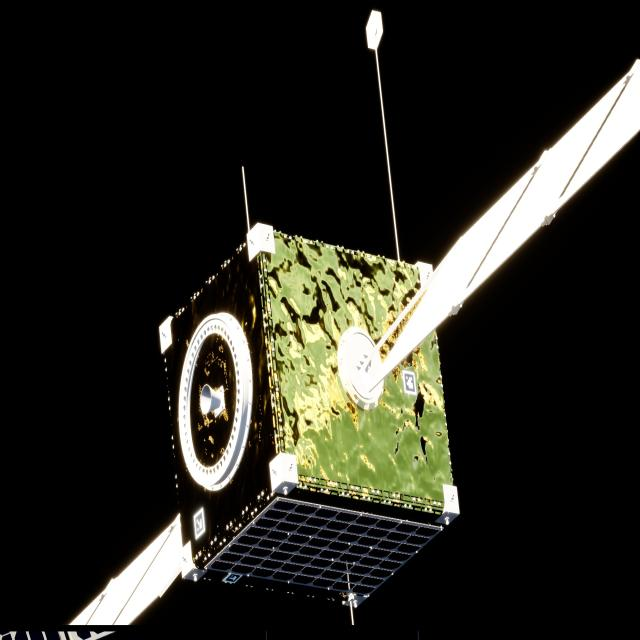satellite: (69, 77, 640, 630)
